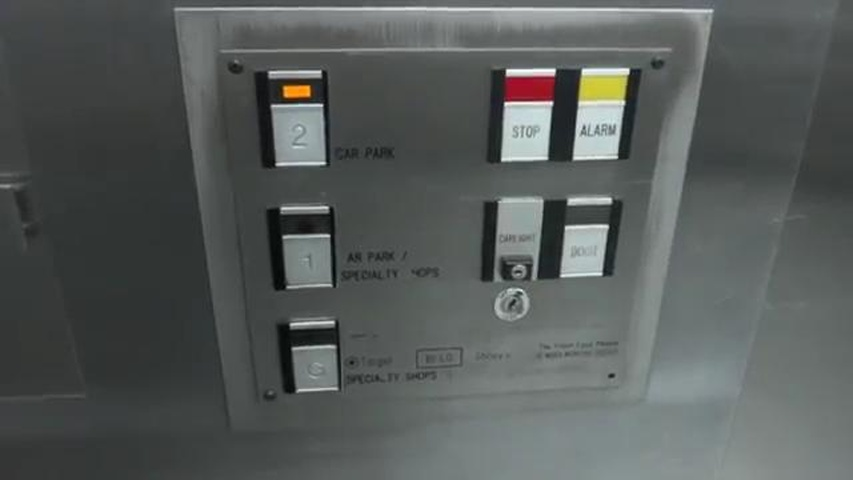1: (279, 230, 335, 293)
2: (268, 102, 330, 170)
G: (288, 340, 341, 395)
keyhole: (492, 287, 530, 323), (498, 250, 535, 284)
text: (557, 222, 610, 279)
text_alarm: (570, 99, 626, 163)
text_stop: (495, 98, 555, 166)
